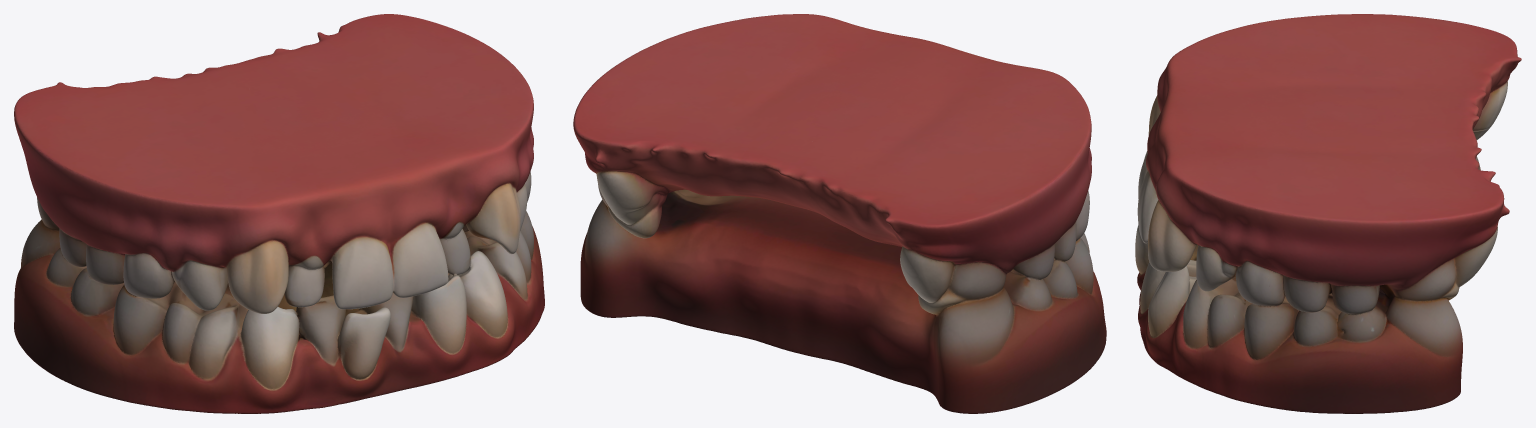
The model's file is teeth 3d model.glb.
The picture shows the model from 3 angles, left to right: view 1: azimuth 30°, elevation 25°; view 2: azimuth 150°, elevation 25°; view 3: azimuth 270°, elevation 25°; orthographic projection. The views are drawn at different scales.
Visible parts, largest first — view 1: tripo_node_8ee5d824-d4cf-4120-98d5-40844e8f5720; view 2: tripo_node_8ee5d824-d4cf-4120-98d5-40844e8f5720; view 3: tripo_node_8ee5d824-d4cf-4120-98d5-40844e8f5720.
Part boxes in pixels (x1,y1,x2,y2): tripo_node_8ee5d824-d4cf-4120-98d5-40844e8f5720: (14,14,544,413); tripo_node_8ee5d824-d4cf-4120-98d5-40844e8f5720: (573,14,1106,413); tripo_node_8ee5d824-d4cf-4120-98d5-40844e8f5720: (1135,14,1521,413).
Bounding box in the file's own units: 1 × 0.4171 × 0.7505.
1 material, 1 textured.
